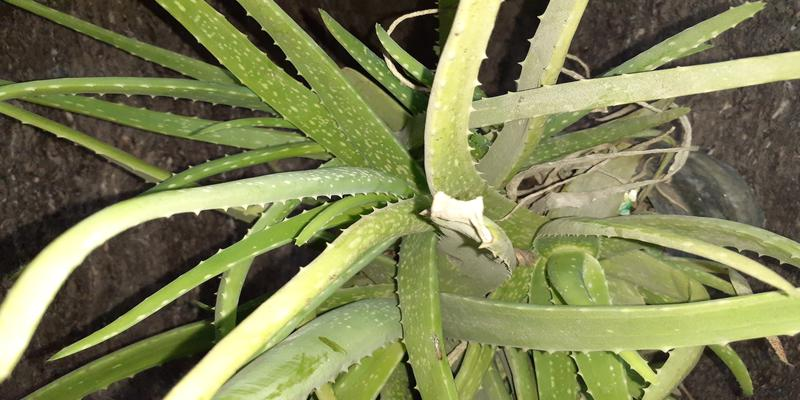Aloevera: (137, 32, 712, 375)
